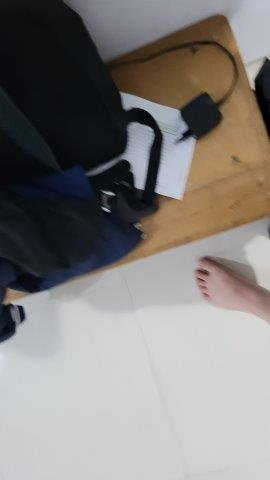kertas: (119, 91, 197, 200)
